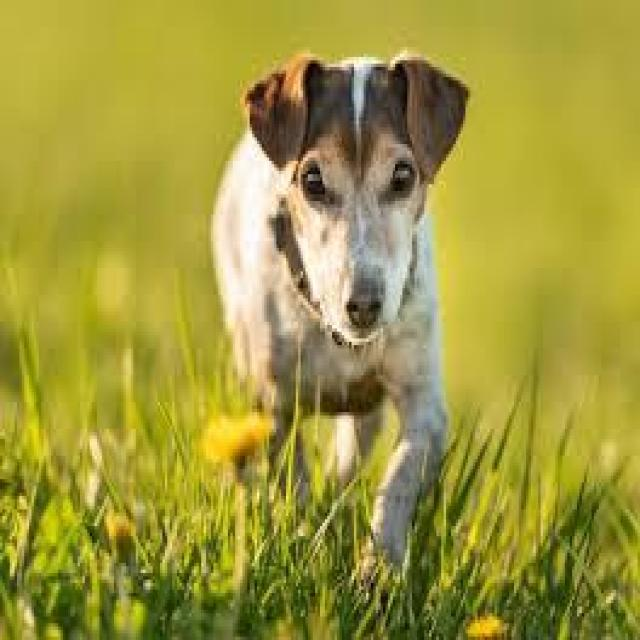Dog: (234, 44, 481, 360)
